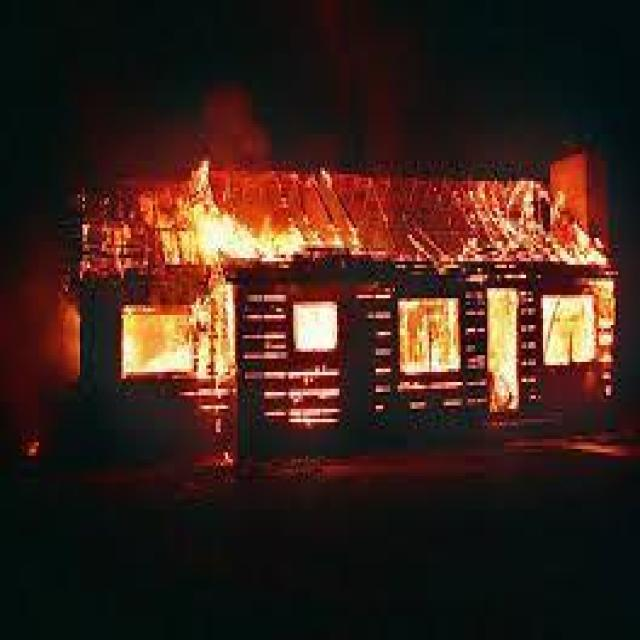fire: (63, 162, 616, 432), (215, 443, 236, 467)
